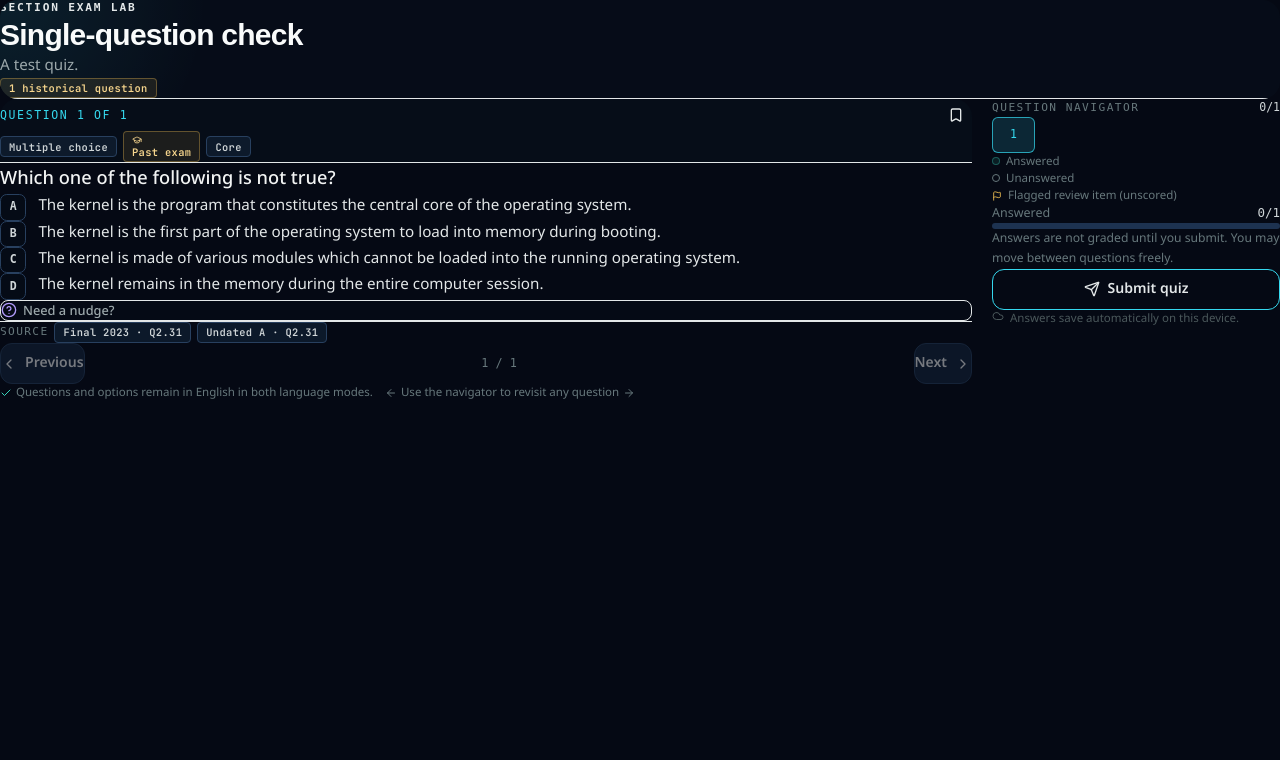
it: QuizEngine › grades a submitted answer, unlocks explanation, bookmarks, and retries
Click the button named "Bookmark this question".
click(956, 115)  # box [940,99,972,131]
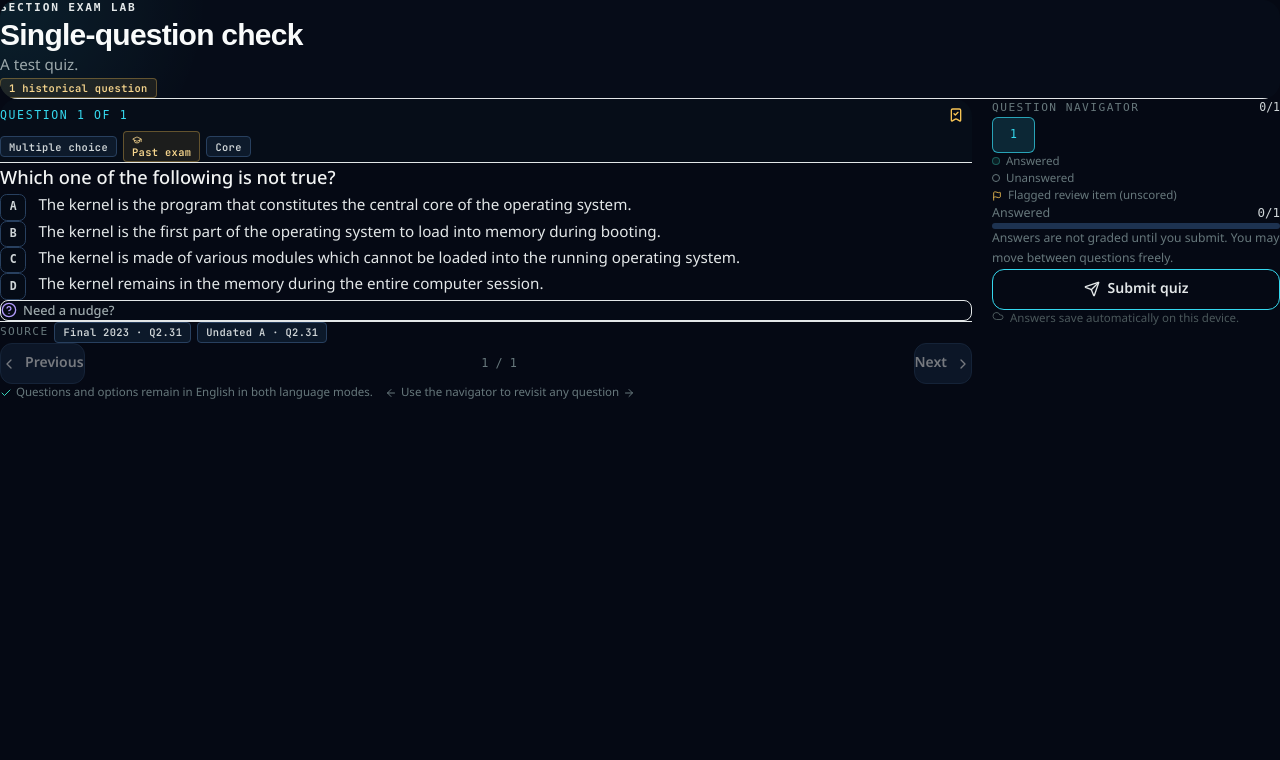
Expected: the button named "Remove question bookmark" is pressed, [940,99,972,131]
Click the radio button labelled "The kernel is made of various modules which cannot be loaded".
click(370, 258)  # box [0,242,740,274]
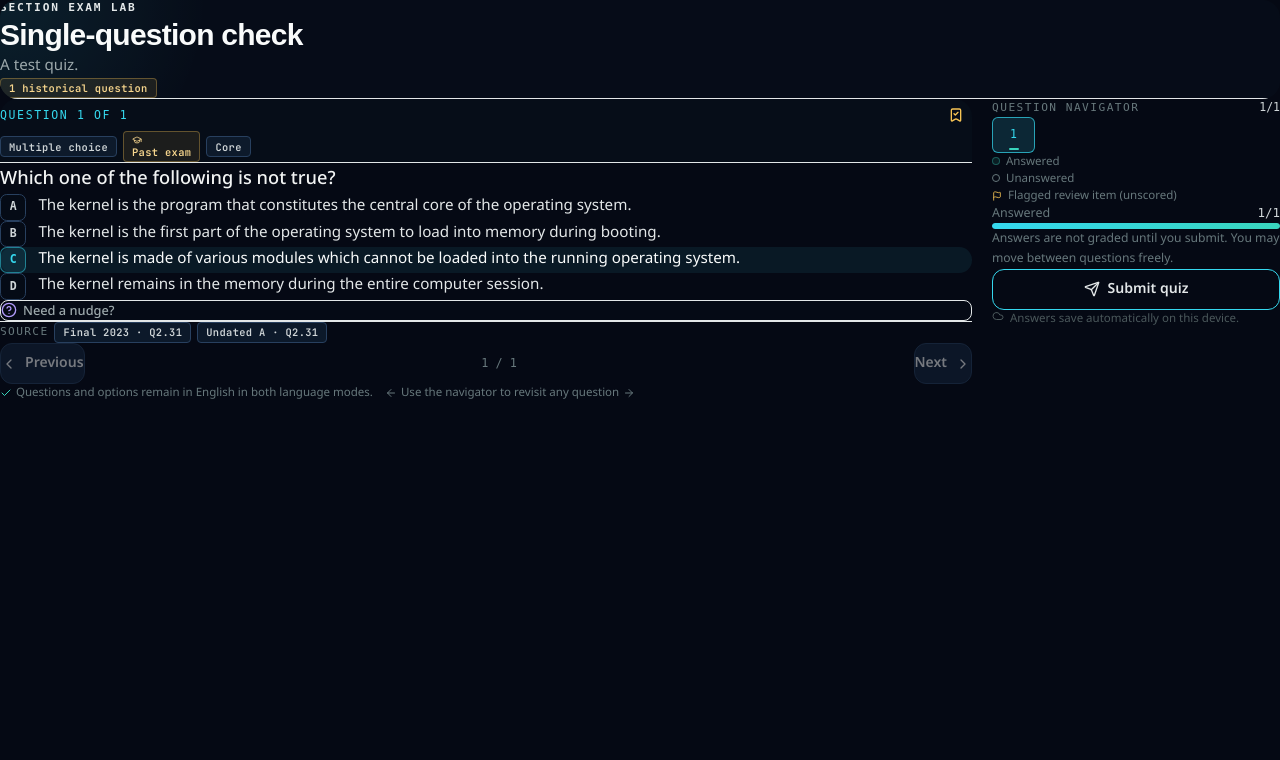
Expected: the radio button labelled "The kernel is made of various modules which cannot be loaded" is checked, [0,247,972,273]
Click the button "Submit quiz".
click(1136, 289)  # box [992,269,1279,310]
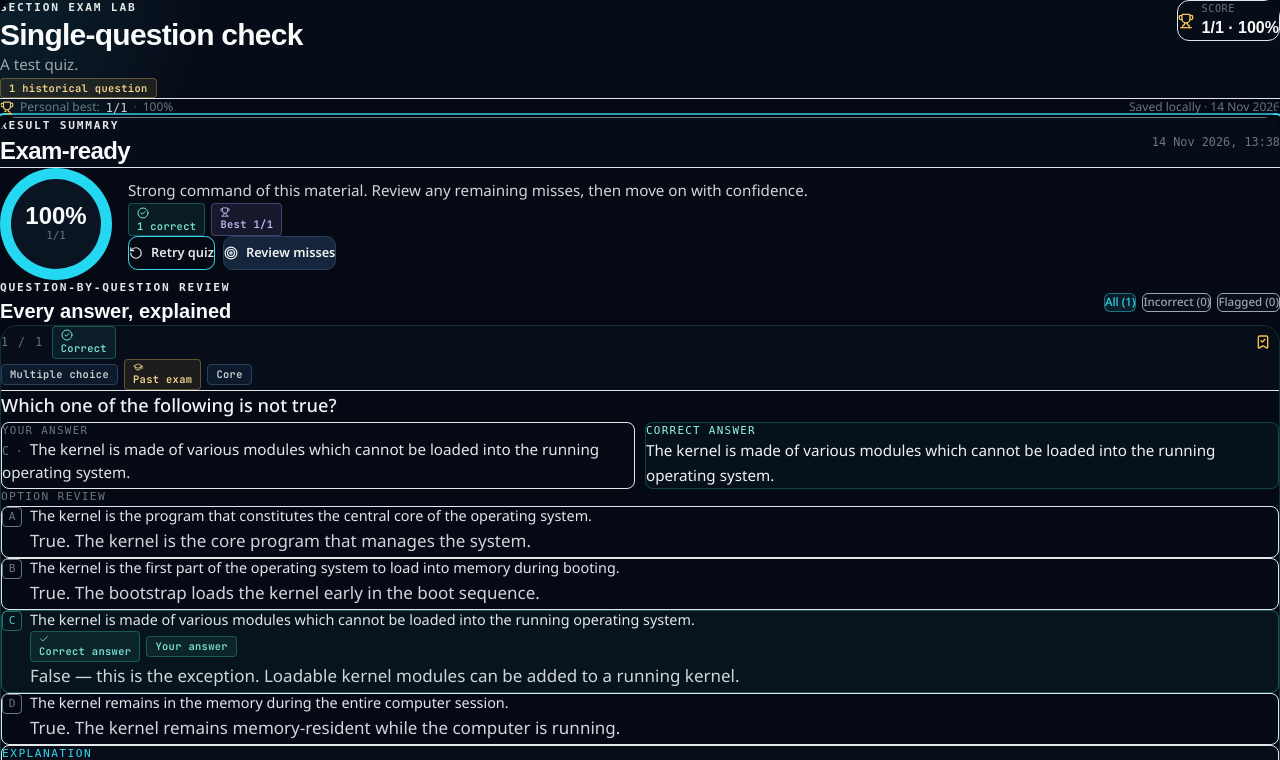
Expected: the heading "Exam-ready" is shown, [0,135,130,167]
Expected: the text "Correct answer" is shown, [646,424,756,437]
Expected: the text "Best 1/1" is shown, [211,203,282,236]
Click the button "Retry quiz".
click(171, 253)  # box [128,236,215,270]
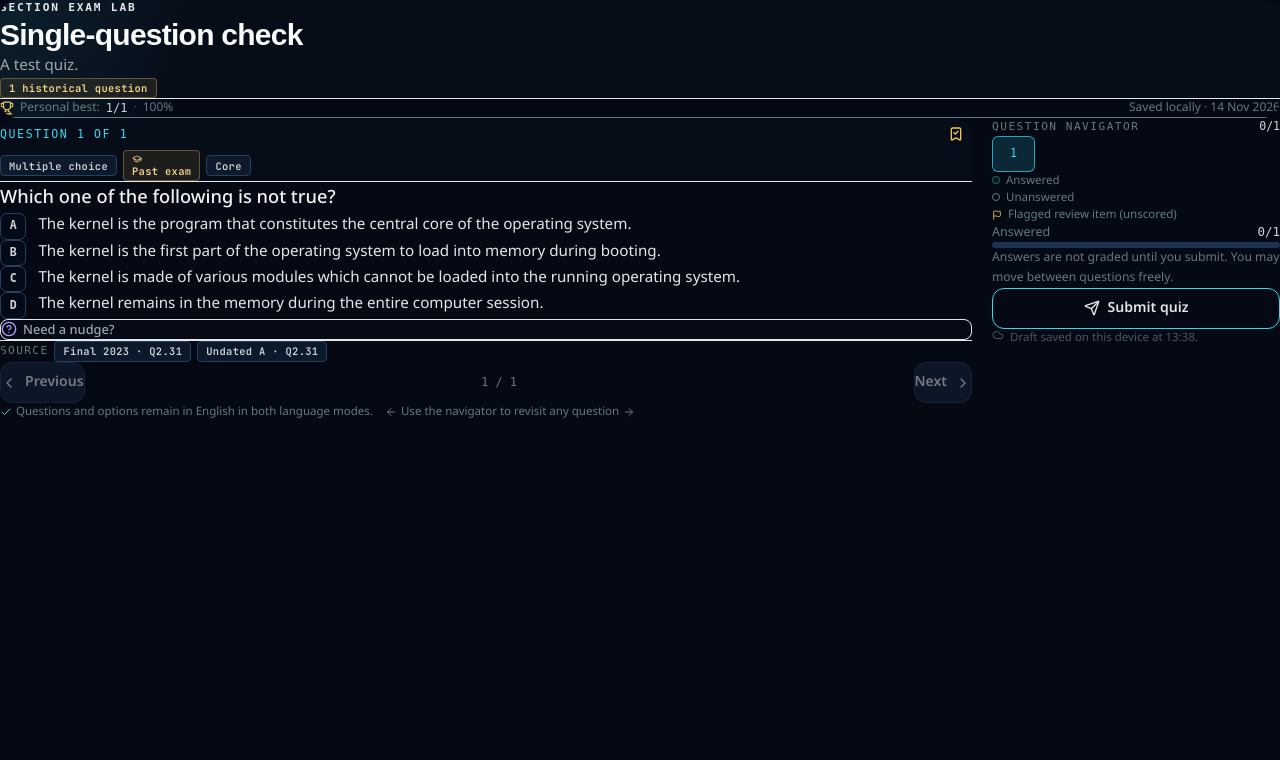
Expected: the heading "Exam-ready" is gone
Expected: the radio button labelled "made of various modules which cannot be loaded" is not checked, [0,261,740,293]
